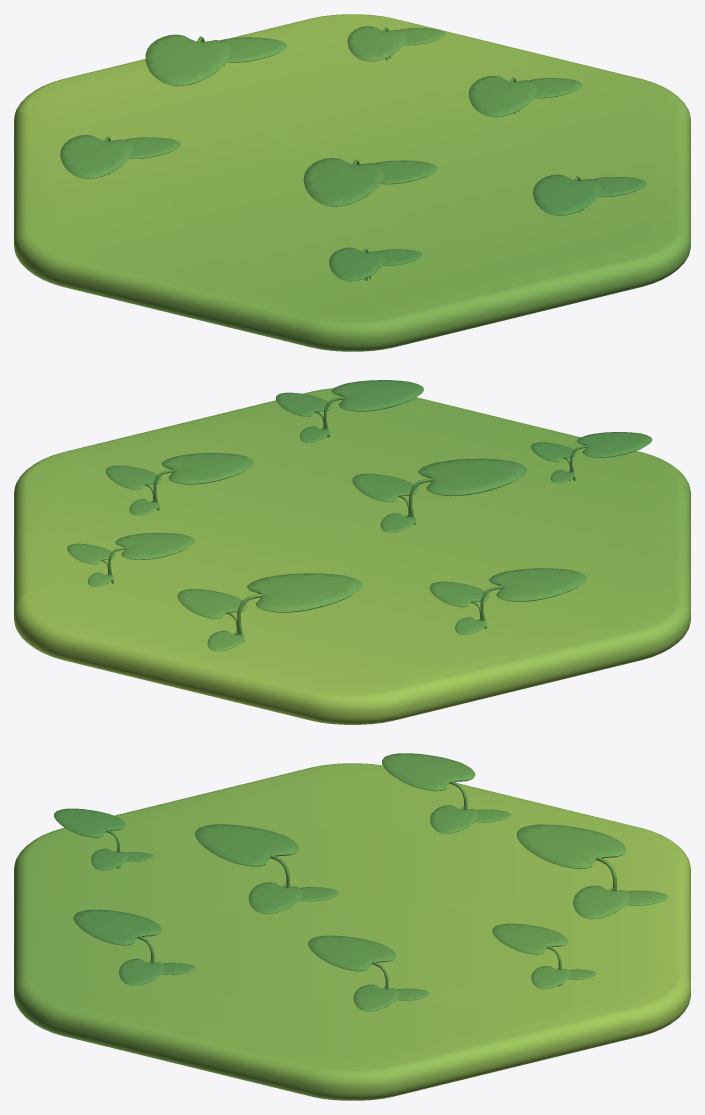
File: Grass.fbx
3 renders of one model, top to bottom at view 1: azimuth 30°, elevation 25°; view 2: azimuth 150°, elevation 25°; view 3: azimuth 270°, elevation 25°, orthographic.
Visible parts, largest first — view 1: NurbsPath.013, NurbsPath.006, NurbsPath.007, NurbsPath.009, NurbsPath.008, NurbsPath.004, NurbsPath.002, NurbsPath.010, NurbsPath.014, NurbsPath.005, NurbsPath.003, NurbsPath.012; view 2: NurbsPath.013, NurbsPath.004, NurbsPath.006, NurbsPath.009, NurbsPath.007, NurbsPath.002, NurbsPath.008, NurbsPath.014, NurbsPath.010, NurbsPath.005, NurbsPath.003, NurbsPath.012; view 3: NurbsPath.006, NurbsPath.007, NurbsPath.009, NurbsPath.013, NurbsPath.004, NurbsPath.002, NurbsPath.008, NurbsPath.014, NurbsPath.003, NurbsPath.010, NurbsPath.005, NurbsPath.012.
Part boxes in pixels (x1,y1,x2,y2): NurbsPath.013: (14, 111, 249, 300); NurbsPath.006: (438, 48, 690, 201); NurbsPath.007: (466, 160, 690, 316); NurbsPath.009: (278, 144, 519, 322); NurbsPath.008: (268, 211, 499, 351); NurbsPath.004: (19, 22, 295, 135); NurbsPath.002: (285, 14, 445, 143); NurbsPath.010: (117, 200, 277, 336); NurbsPath.014: (14, 101, 284, 199); NurbsPath.005: (348, 92, 465, 159); NurbsPath.003: (409, 22, 515, 91); NurbsPath.012: (280, 135, 346, 181); NurbsPath.013: (396, 563, 690, 719); NurbsPath.004: (70, 573, 379, 724); NurbsPath.006: (14, 411, 278, 552); NurbsPath.009: (278, 421, 541, 560); NurbsPath.007: (230, 380, 515, 504); NurbsPath.002: (14, 533, 313, 663); NurbsPath.008: (477, 428, 690, 547); NurbsPath.014: (330, 561, 467, 723); NurbsPath.010: (468, 502, 690, 584); NurbsPath.005: (184, 504, 304, 555); NurbsPath.003: (14, 542, 125, 608); NurbsPath.012: (305, 555, 416, 576); NurbsPath.006: (139, 935, 522, 1100); NurbsPath.007: (14, 909, 312, 1055); NurbsPath.009: (14, 824, 404, 962); NurbsPath.013: (253, 753, 634, 863); NurbsPath.004: (453, 824, 690, 983); NurbsPath.002: (405, 909, 690, 1038); NurbsPath.008: (14, 808, 301, 917); NurbsPath.014: (339, 826, 654, 908); NurbsPath.003: (466, 987, 636, 1065); NurbsPath.010: (114, 782, 338, 868); NurbsPath.005: (314, 928, 465, 986); NurbsPath.012: (360, 884, 452, 927).
Bounding box in the file's own units: 36.04 × 4.01 × 32.47.
